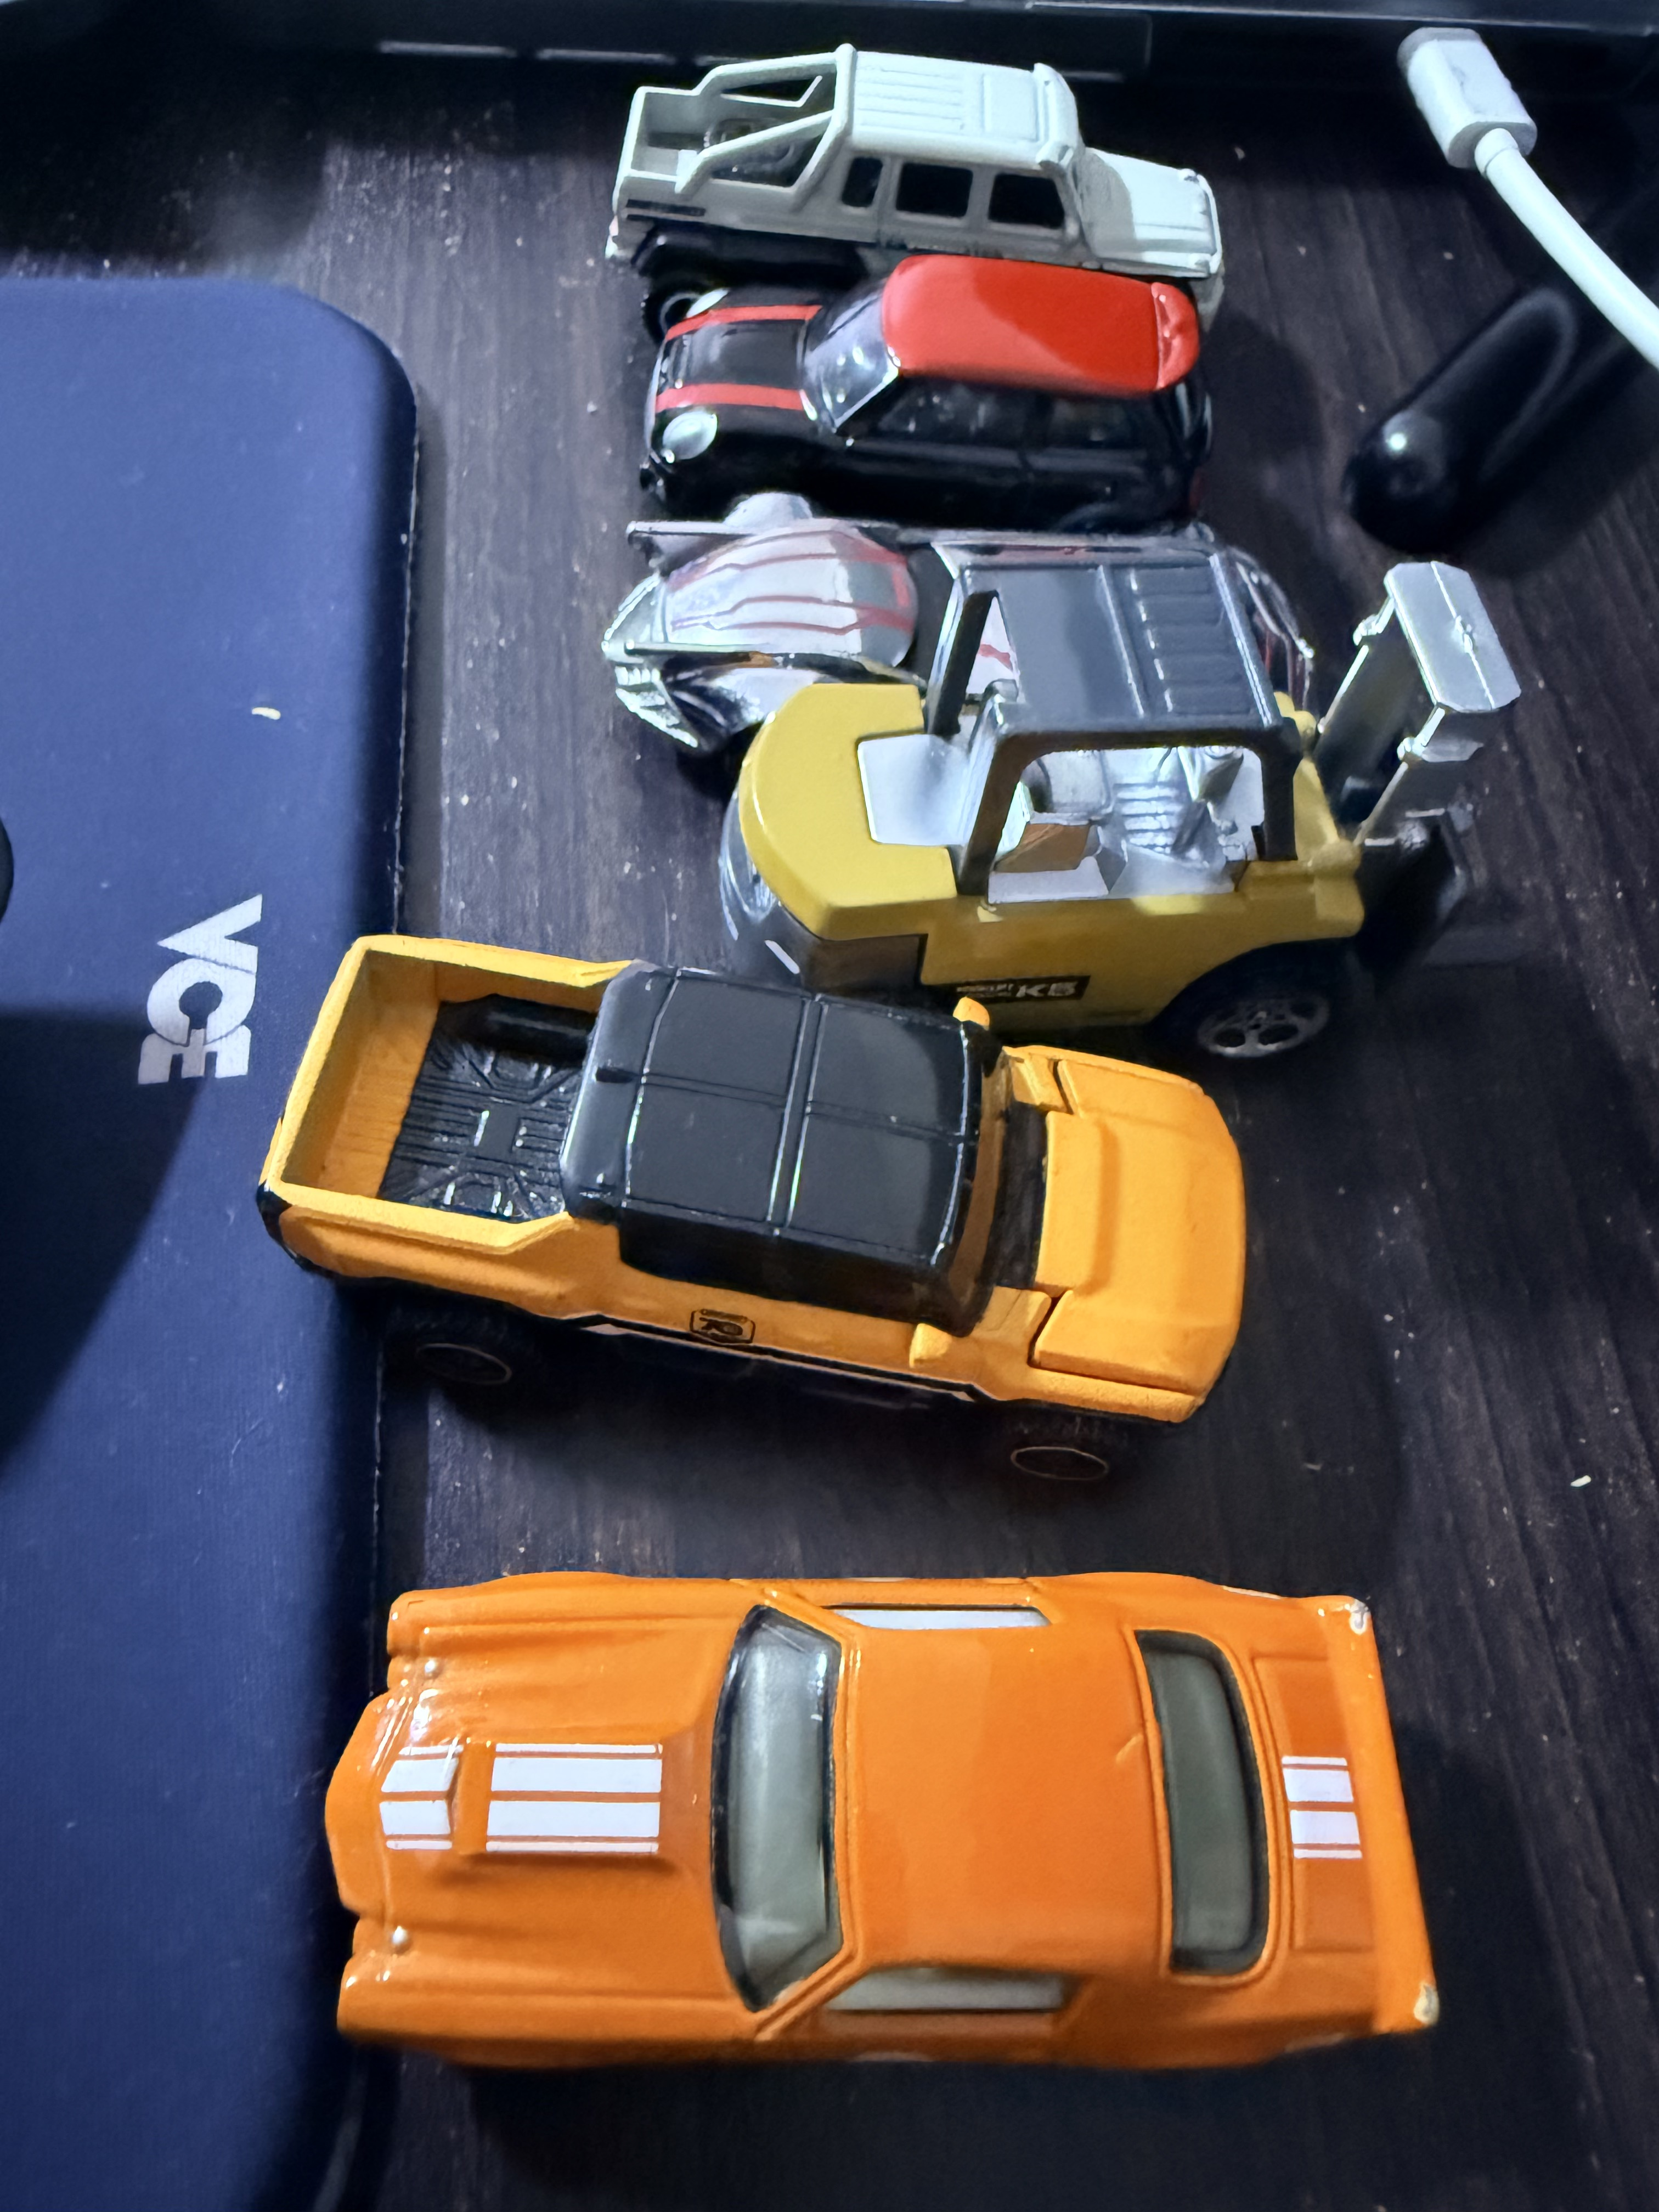camaro_rs: (321, 1568, 1445, 2083)
dc_comics: (599, 489, 1312, 789)
forklift: (714, 557, 1525, 1066)
gmc_hummer: (256, 932, 1251, 1493)
mercedes_benz: (601, 40, 1227, 329)
mini_cooper: (636, 249, 1220, 543)
